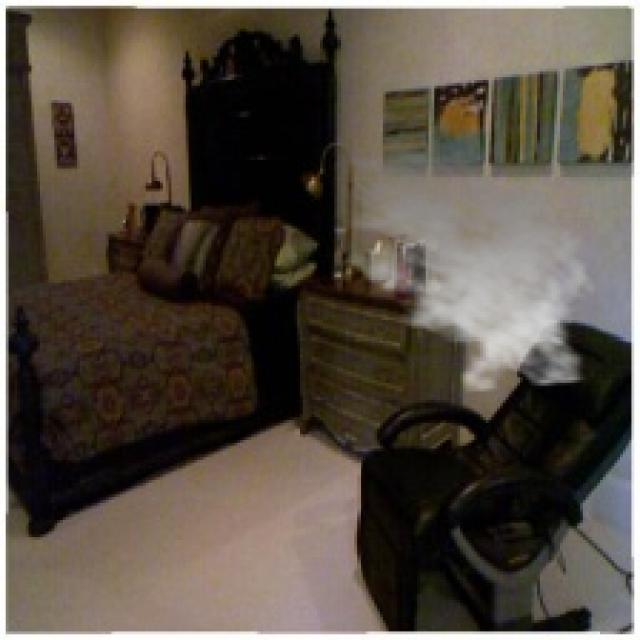smoke: (326, 132, 600, 394)
